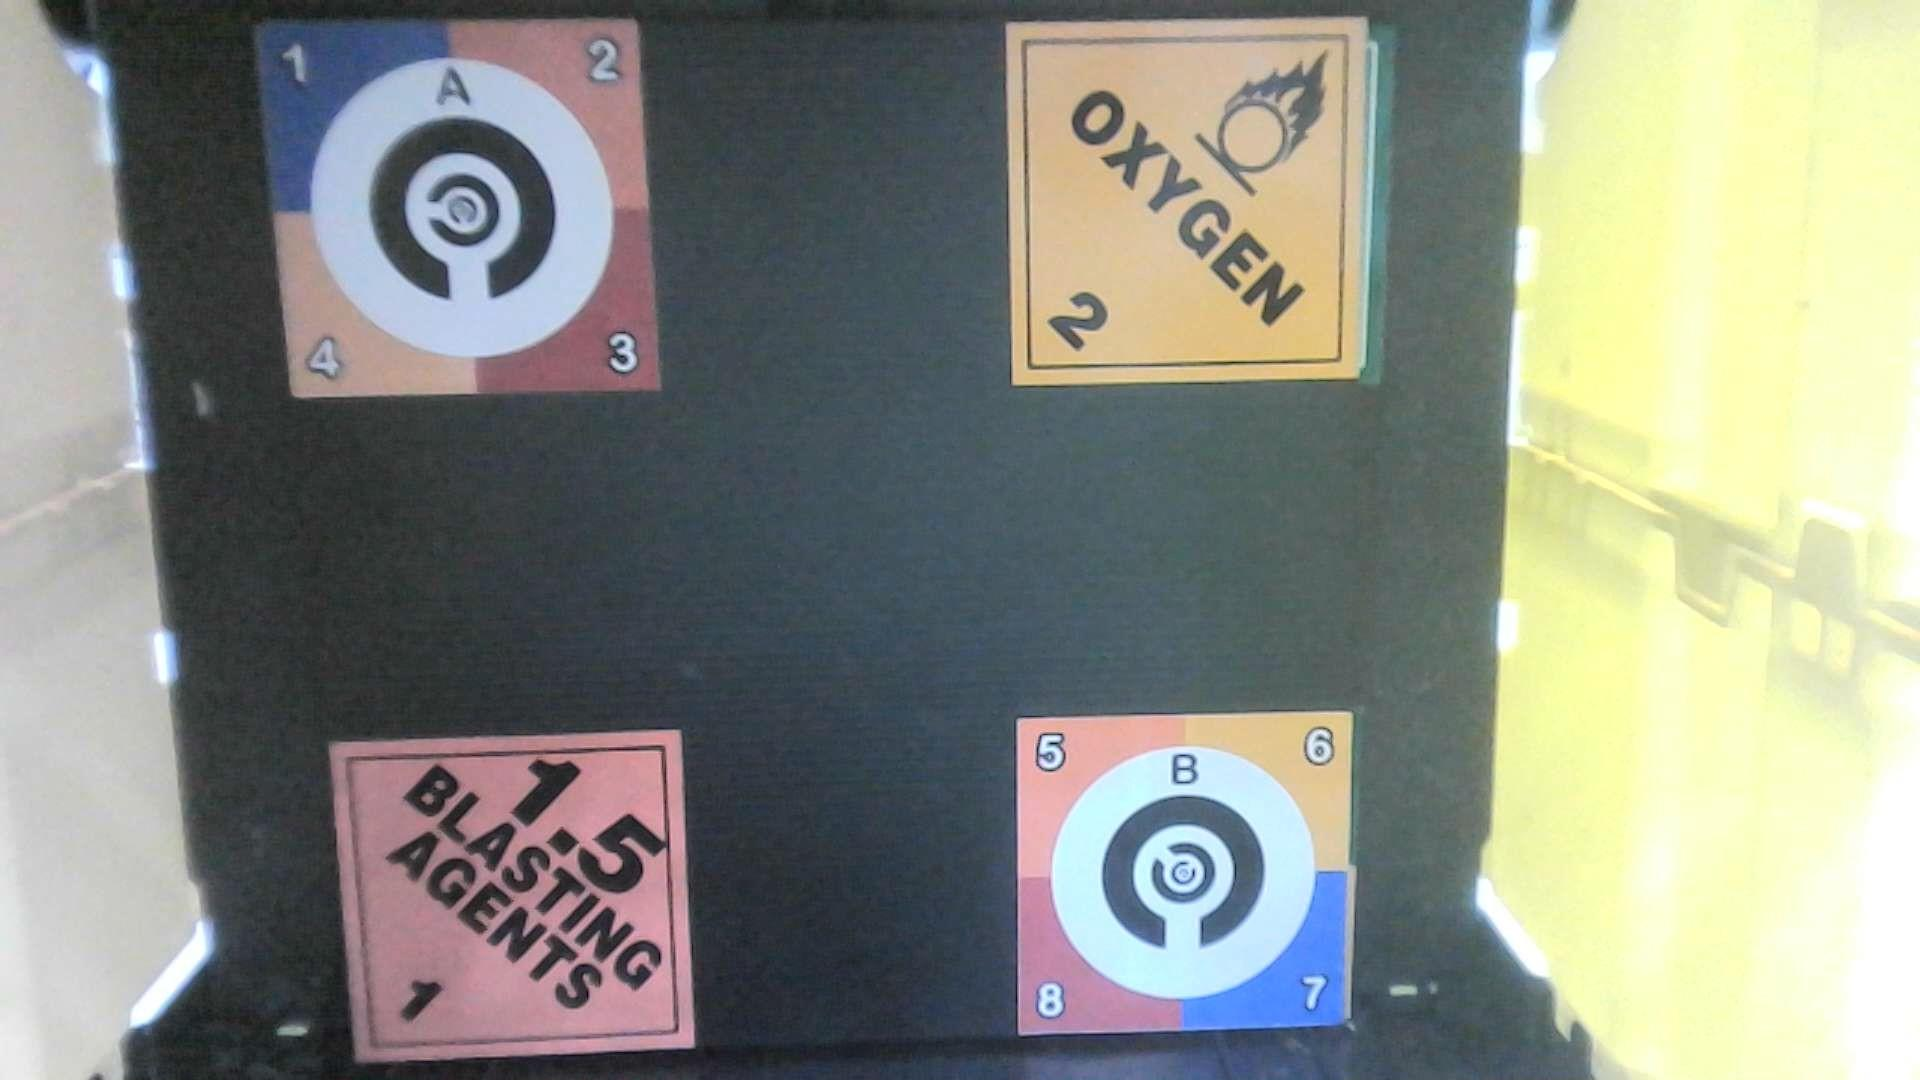explosive: (322, 735, 724, 1069)
oxidizer: (1007, 3, 1382, 405)
